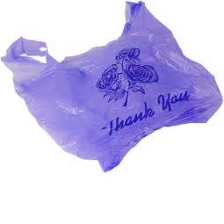plastic_bag: (0, 0, 224, 175)
